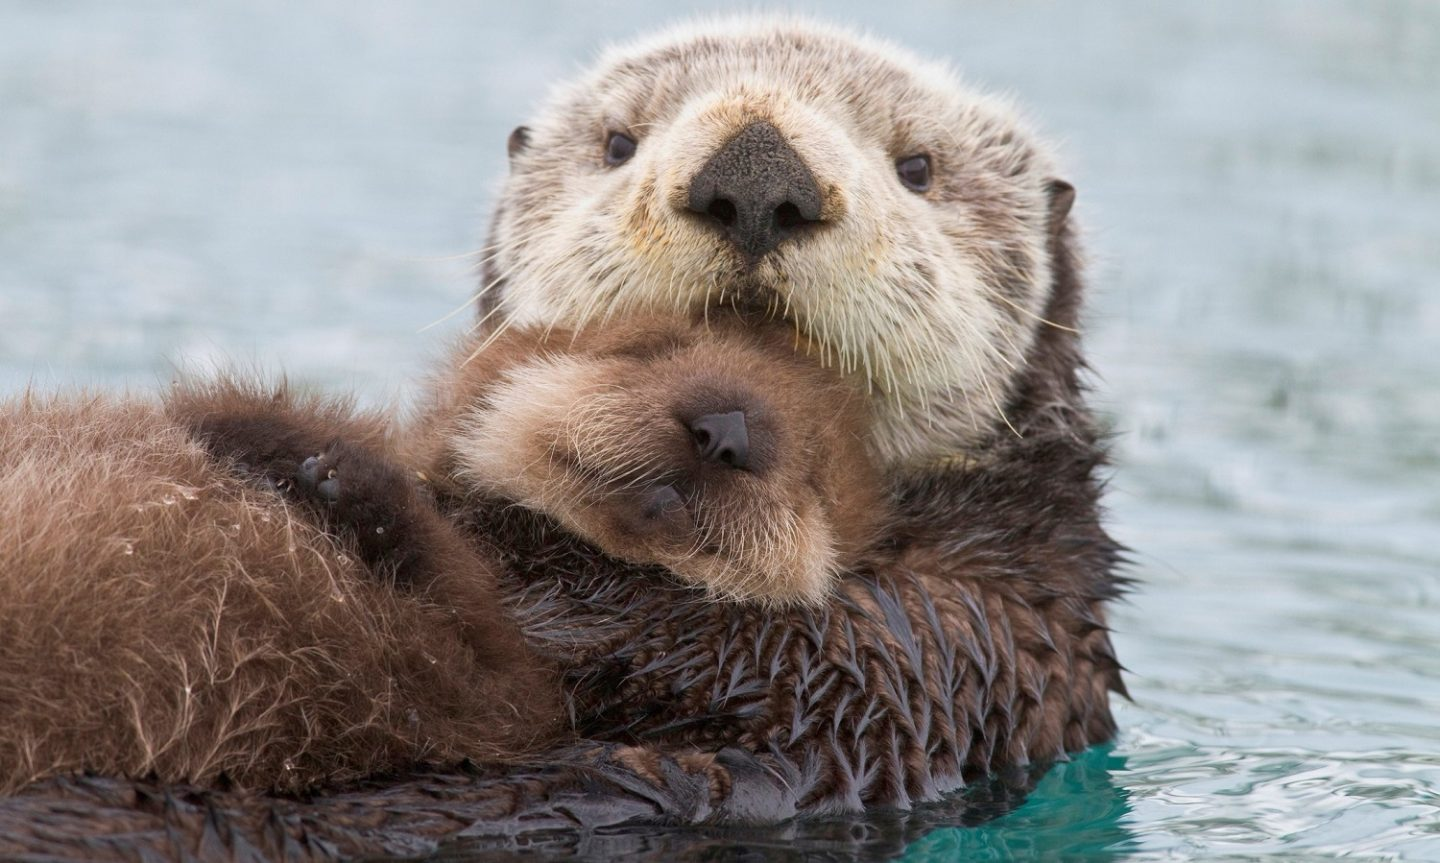otter: (375, 233, 1021, 630), (417, 8, 1142, 333)
